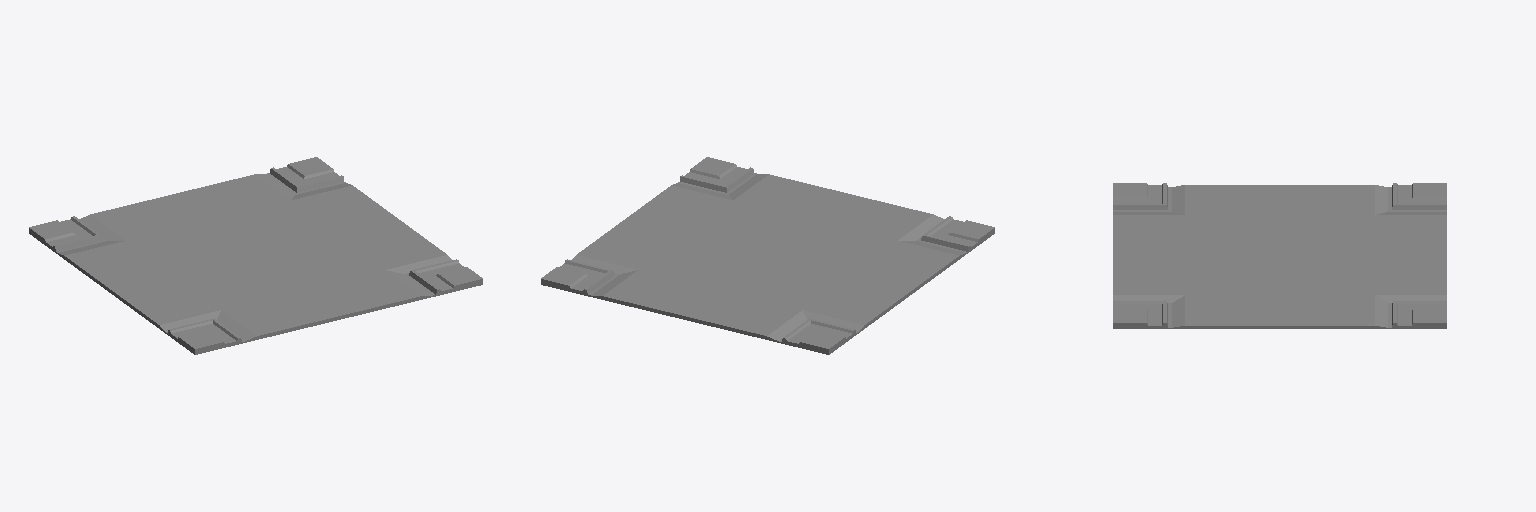
Rendered from Road-2-Lane-X.obj.
The picture shows the model from 3 angles: view 1: azimuth 30°, elevation 25°; view 2: azimuth 150°, elevation 25°; view 3: azimuth 270°, elevation 25°; orthographic projection.
Parts seen in each view (by area): view 1: Road_2_Lane_X; view 2: Road_2_Lane_X; view 3: Road_2_Lane_X.
Part boxes in pixels (x1,y1,x2,y2): Road_2_Lane_X: (29,157,482,354); Road_2_Lane_X: (541,157,994,354); Road_2_Lane_X: (1113,183,1446,328).
Size of the model in its own units: 3600 by 72.48 by 3600.